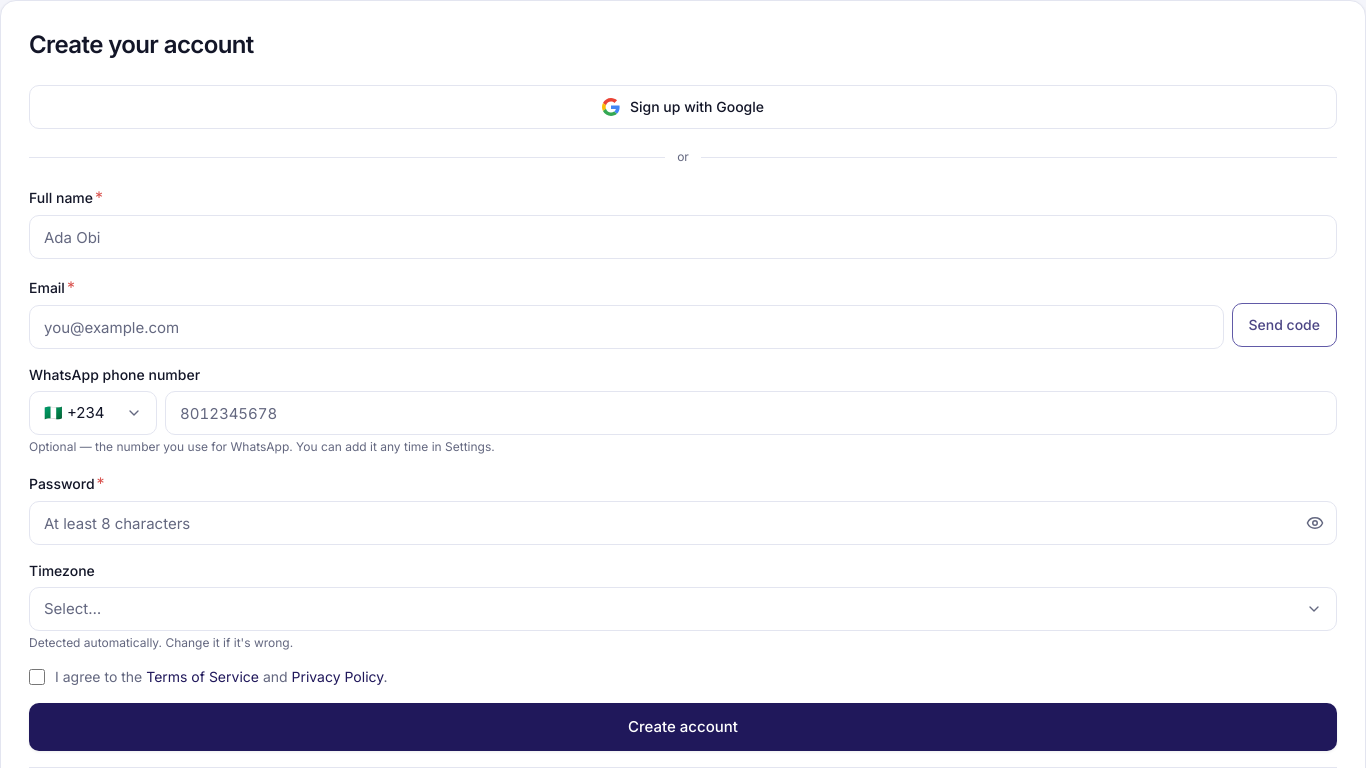
Test case: Register › phone input strips non-numeric characters
In the field named "Phone number": (751, 413) x1=165 y1=391 x2=1337 y2=435, type "80a1-23 45x678"
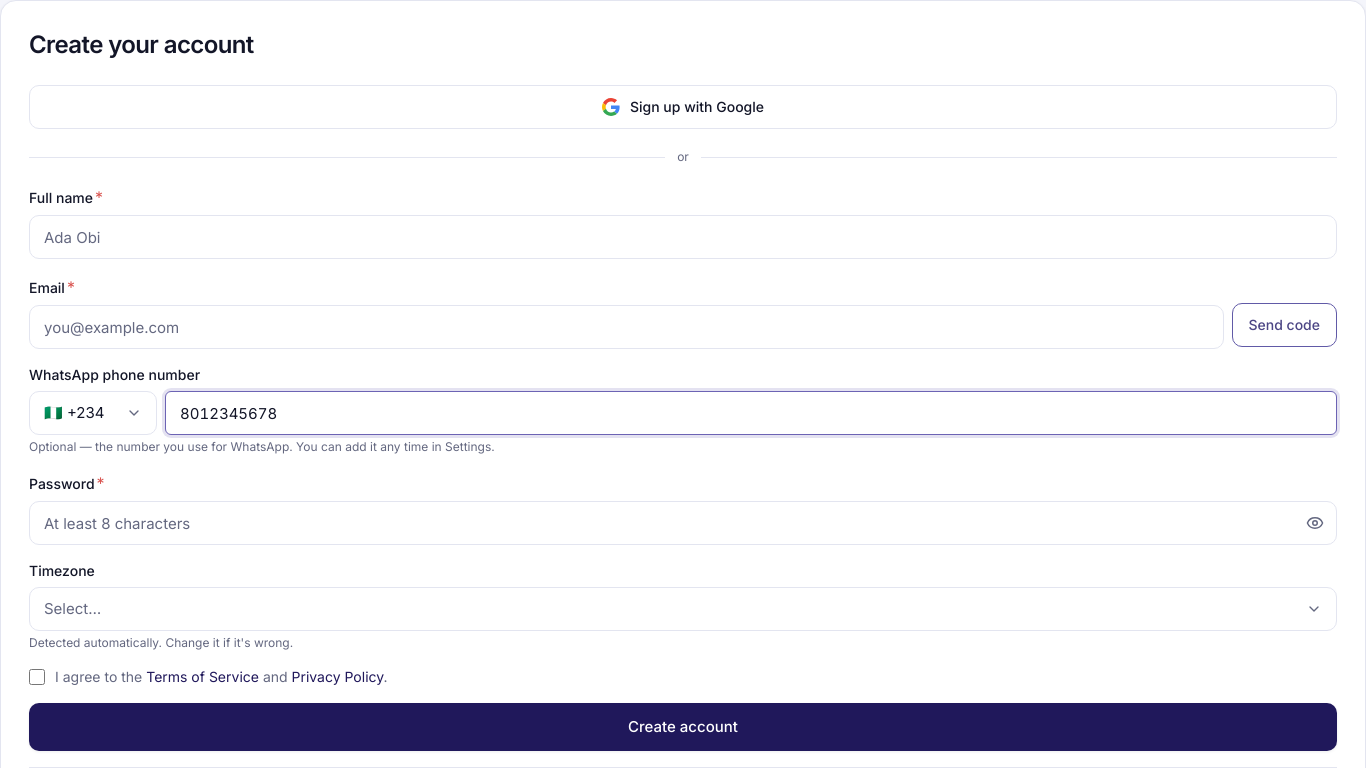
Check: the field named "Phone number" holds "8012345678", box x1=165 y1=391 x2=1337 y2=435
